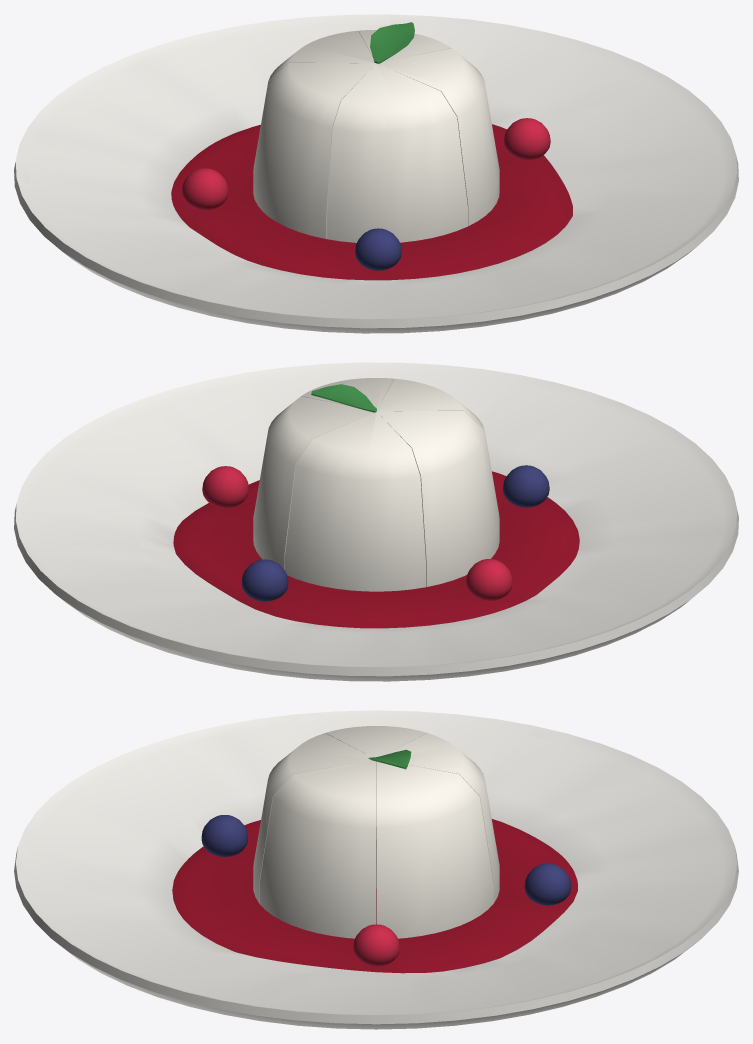
Rendered from dish-panna-cotta-lod0.glb.
3 views of the same model, one above another, from view 1: azimuth 30°, elevation 25°; view 2: azimuth 150°, elevation 25°; view 3: azimuth 270°, elevation 25° (orthographic).
Visible parts, largest first — view 1: panna-cotta.lod0__table porcelain, panna-cotta.lod0__food glaze, panna-cotta.lod0__food; view 2: panna-cotta.lod0__table porcelain, panna-cotta.lod0__food glaze, panna-cotta.lod0__food; view 3: panna-cotta.lod0__table porcelain, panna-cotta.lod0__food glaze.
Boxes of the visible parts, <box> form: panna-cotta.lod0__table porcelain: <box>14,14,738,333</box>; panna-cotta.lod0__food glaze: <box>171,30,572,280</box>; panna-cotta.lod0__food: <box>370,22,414,63</box>; panna-cotta.lod0__table porcelain: <box>14,362,738,681</box>; panna-cotta.lod0__food glaze: <box>173,378,579,628</box>; panna-cotta.lod0__food: <box>311,384,376,412</box>; panna-cotta.lod0__table porcelain: <box>14,710,738,1029</box>; panna-cotta.lod0__food glaze: <box>172,726,577,973</box>.
Bounding box in the file's own units: 0.2 × 0.0566 × 0.2.
